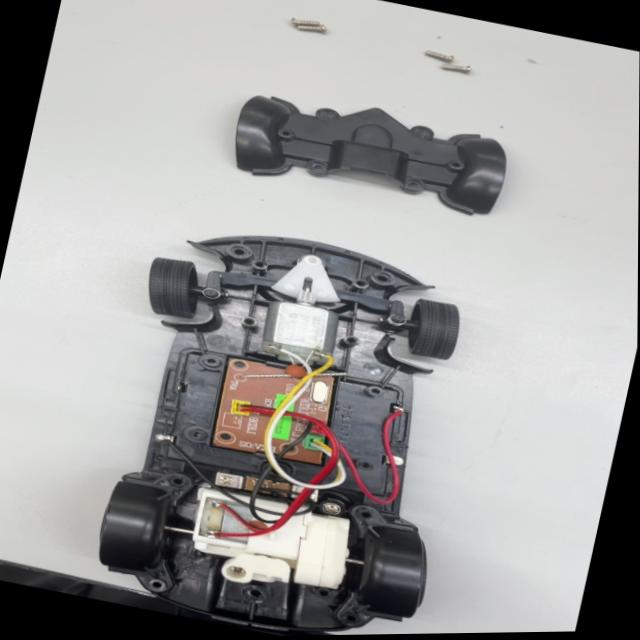motor: (256, 278, 356, 366)
motor_cover: (214, 68, 524, 231)
screw: (286, 12, 332, 41), (437, 57, 479, 84), (416, 44, 458, 66)
wheel: (385, 288, 490, 368), (129, 252, 210, 329)
